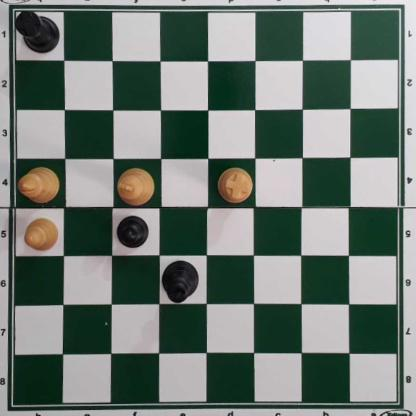black-king: (162, 261, 201, 303)
black-pawn: (117, 216, 149, 251)
black-rook: (16, 12, 62, 52)
white-bishop: (18, 167, 60, 205)
white-king: (116, 166, 156, 207)
white-pawn: (25, 219, 60, 252)
white-rook: (218, 168, 253, 204)
